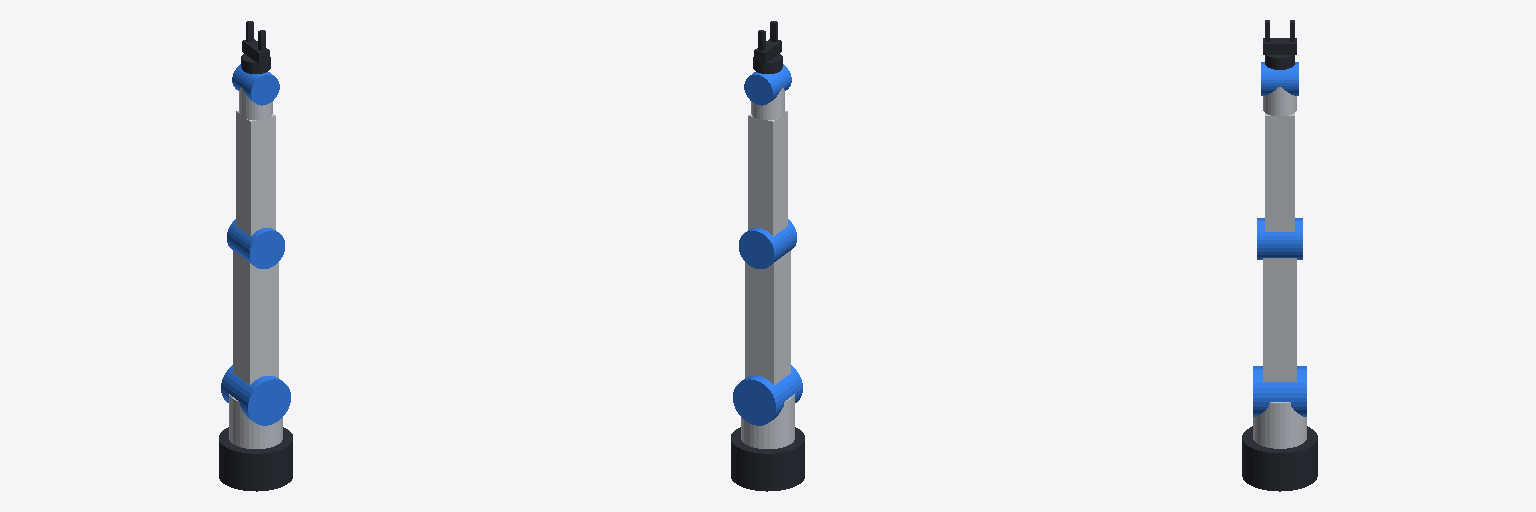
URDF robot description (demo_arm):
<?xml version="1.0"?>
<!-- 개발용 6축 팔 (기본 도형만 사용, 메시 없음). 실제 팔은 제조사 URDF로 교체. 조인트 이름은 실행기 joints 파라미터와 같아야 함 -->
<robot name="demo_arm">
  <material name="dark"><color rgba="0.20 0.22 0.25 1"/></material>
  <material name="light"><color rgba="0.82 0.84 0.87 1"/></material>
  <material name="accent"><color rgba="0.24 0.55 0.99 1"/></material>

  <link name="base_link">
    <!-- 메시 예시: package://<패키지>/… 는 웹이 /robots/<로봇>/<mesh_packages 에서 정한 폴더>/… 에서 받는다 -->
    <visual><geometry><mesh filename="package://demo_arm/meshes/base.stl"/></geometry><material name="dark"/></visual>
  </link>

  <joint name="joint1" type="revolute">
    <parent link="base_link"/><child link="link1"/>
    <origin xyz="0 0 0.1"/><axis xyz="0 0 1"/>
    <limit lower="-3.1416" upper="3.1416" effort="100" velocity="3.14"/>
  </joint>
  <link name="link1">
    <visual><origin xyz="0 0 0.06"/><geometry><cylinder radius="0.065" length="0.12"/></geometry><material name="light"/></visual>
  </link>

  <joint name="joint2" type="revolute">
    <parent link="link1"/><child link="link2"/>
    <origin xyz="0 0 0.12"/><axis xyz="0 1 0"/>
    <limit lower="-3.1416" upper="3.1416" effort="100" velocity="3.14"/>
  </joint>
  <link name="link2">
    <visual><origin rpy="1.5708 0 0"/><geometry><cylinder radius="0.06" length="0.13"/></geometry><material name="accent"/></visual>
    <visual><origin xyz="0 0 0.2"/><geometry><box size="0.08 0.08 0.4"/></geometry><material name="light"/></visual>
  </link>

  <joint name="joint3" type="revolute">
    <parent link="link2"/><child link="link3"/>
    <origin xyz="0 0 0.4"/><axis xyz="0 1 0"/>
    <limit lower="-3.1416" upper="3.1416" effort="100" velocity="3.14"/>
  </joint>
  <link name="link3">
    <visual><origin rpy="1.5708 0 0"/><geometry><cylinder radius="0.05" length="0.11"/></geometry><material name="accent"/></visual>
    <visual><origin xyz="0 0 0.17"/><geometry><box size="0.07 0.07 0.34"/></geometry><material name="light"/></visual>
  </link>

  <joint name="joint4" type="revolute">
    <parent link="link3"/><child link="link4"/>
    <origin xyz="0 0 0.34"/><axis xyz="0 0 1"/>
    <limit lower="-3.1416" upper="3.1416" effort="100" velocity="3.14"/>
  </joint>
  <link name="link4">
    <visual><origin xyz="0 0 0.04"/><geometry><cylinder radius="0.04" length="0.08"/></geometry><material name="light"/></visual>
  </link>

  <joint name="joint5" type="revolute">
    <parent link="link4"/><child link="link5"/>
    <origin xyz="0 0 0.08"/><axis xyz="0 1 0"/>
    <limit lower="-3.1416" upper="3.1416" effort="100" velocity="3.14"/>
  </joint>
  <link name="link5">
    <visual><origin rpy="1.5708 0 0"/><geometry><cylinder radius="0.04" length="0.09"/></geometry><material name="accent"/></visual>
  </link>

  <joint name="joint6" type="revolute">
    <parent link="link5"/><child link="link6"/>
    <origin xyz="0 0 0.04"/><axis xyz="0 0 1"/>
    <limit lower="-3.1416" upper="3.1416" effort="100" velocity="3.14"/>
  </joint>
  <link name="link6">
    <visual><origin xyz="0 0 0.015"/><geometry><cylinder radius="0.035" length="0.03"/></geometry><material name="dark"/></visual>
    <visual><origin xyz="0 0 0.045"/><geometry><box size="0.03 0.08 0.03"/></geometry><material name="dark"/></visual>
    <visual><origin xyz="0 0.03 0.085"/><geometry><box size="0.015 0.012 0.05"/></geometry><material name="dark"/></visual>
    <visual><origin xyz="0 -0.03 0.085"/><geometry><box size="0.015 0.012 0.05"/></geometry><material name="dark"/></visual>
  </link>

  <!-- 툴 끝 (그리퍼 손가락 끝 가운데). 프로파일 tcp_link 가 가리킴 -->
  <joint name="tool_tip_joint" type="fixed">
    <parent link="link6"/><child link="tool_tip"/>
    <origin xyz="0 0 0.11"/>
  </joint>
  <link name="tool_tip"/>
</robot>

--- Facts derived from the render (not from the file) ---
Views: 3 orthographic renders of the robot side by side, from view 1: azimuth 30°, elevation 25°; view 2: azimuth 150°, elevation 25°; view 3: azimuth 270°, elevation 25°.
Robot: demo_arm — 8 links, 7 joints (6 revolute, 1 fixed); root link base_link; default pose: all joints at 0.
Links seen in each view (by area): view 1: link2, link3, base_link, link1, link5, link6, link4; view 2: link2, link3, base_link, link1, link5, link6, link4; view 3: link2, link3, base_link, link1, link6, link5, link4.
Boxes of the visible links, bbox=[...] form: link2: bbox=[221, 251, 290, 425]; link3: bbox=[227, 111, 284, 268]; base_link: bbox=[219, 427, 292, 491]; link1: bbox=[229, 394, 282, 448]; link5: bbox=[232, 64, 279, 105]; link6: bbox=[241, 21, 270, 73]; link4: bbox=[239, 87, 272, 119]; link2: bbox=[733, 251, 802, 425]; link3: bbox=[739, 111, 796, 268]; base_link: bbox=[731, 427, 804, 491]; link1: bbox=[741, 394, 794, 448]; link5: bbox=[744, 64, 791, 105]; link6: bbox=[753, 21, 782, 73]; link4: bbox=[751, 87, 784, 119]; link2: bbox=[1253, 258, 1306, 416]; link3: bbox=[1257, 113, 1302, 259]; base_link: bbox=[1242, 426, 1317, 491]; link1: bbox=[1253, 402, 1306, 448]; link6: bbox=[1263, 20, 1296, 69]; link5: bbox=[1261, 62, 1298, 95]; link4: bbox=[1263, 87, 1296, 116].
Size in the robot's own frame: 0.18 by 0.18 by 1.19 metres.
1 mesh visuals loaded from 1 distinct referenced files (1 binary STL).
